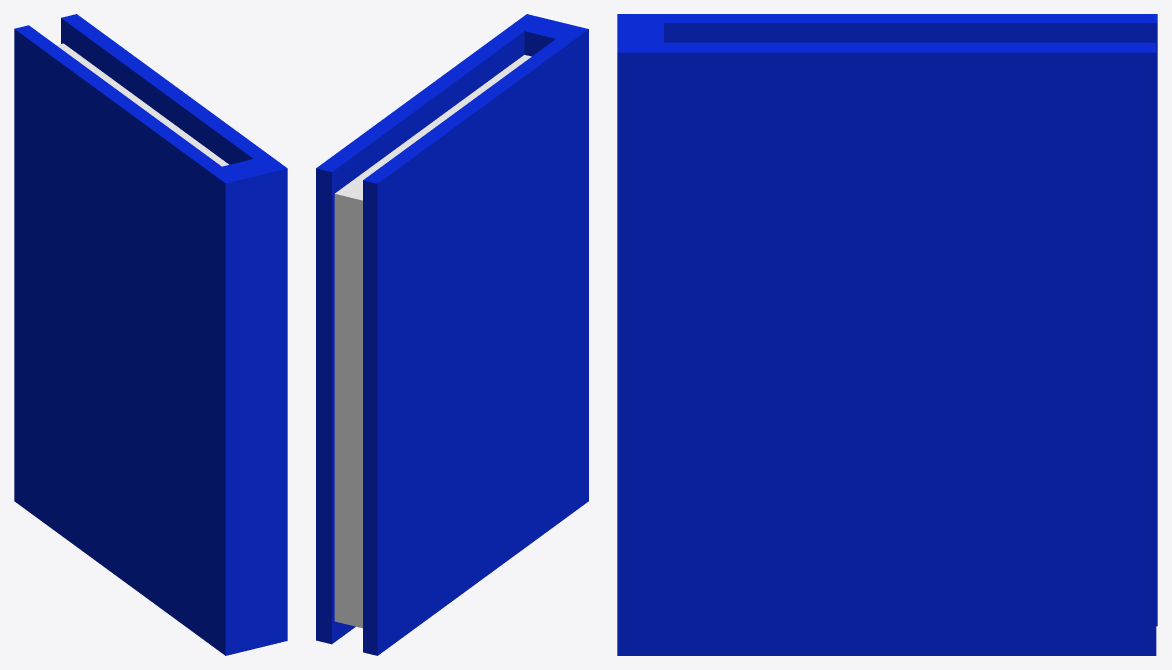
Rendered from Blue_Book.FBX.
3 renders of one model, left to right at view 1: azimuth 30°, elevation 25°; view 2: azimuth 150°, elevation 25°; view 3: azimuth 270°, elevation 25°, orthographic. The views are drawn at different scales.
Visible parts, largest first — view 1: Book_048; view 2: Book_048; view 3: Book_048.
Part boxes in pixels (x1,y1,x2,y2): Book_048: (14, 14, 287, 655); Book_048: (316, 14, 588, 655); Book_048: (617, 14, 1157, 655).
Bounding box in the file's own units: 1.96 × 14.27 × 11.57.
